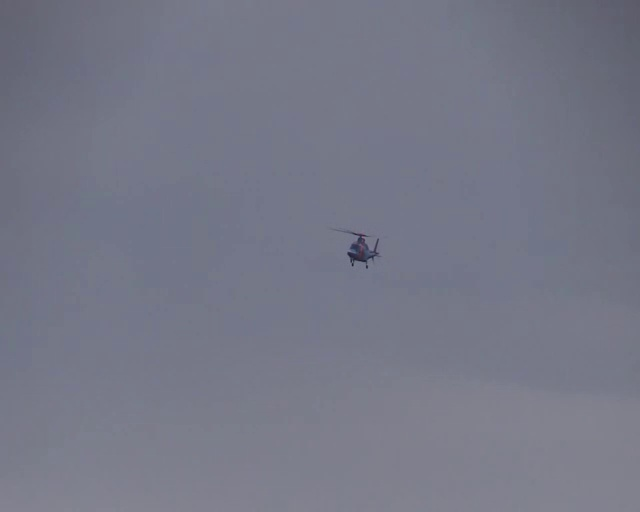HELICOPTER: (329, 226, 384, 269)
